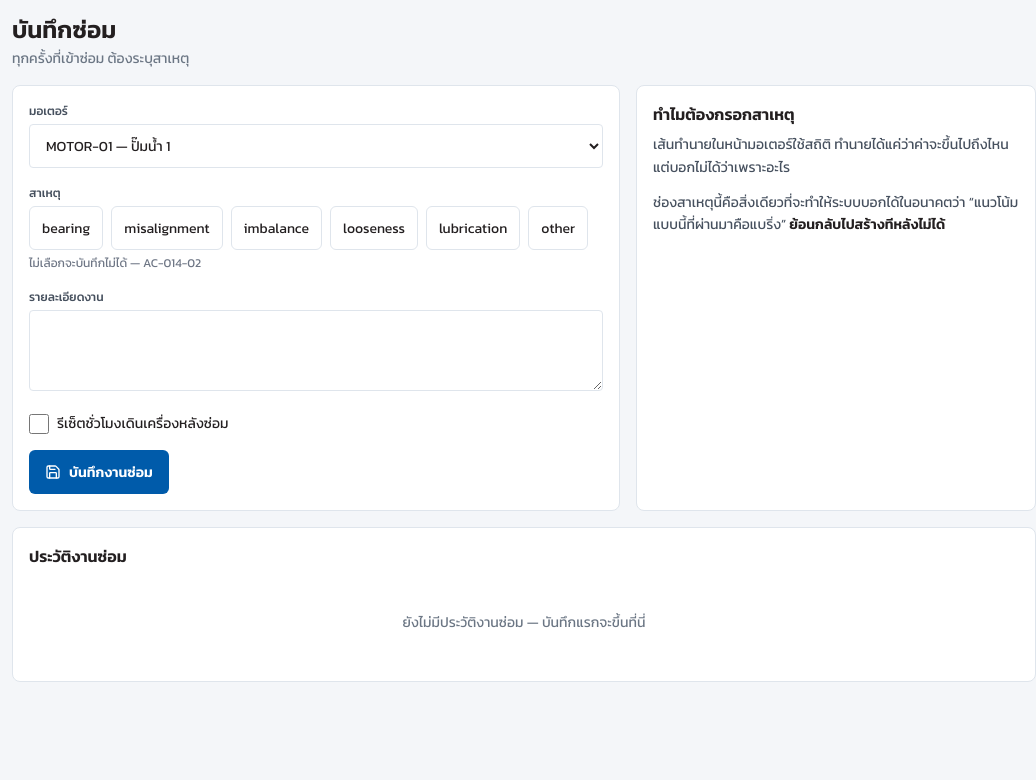
Maintenance › เลือกสาเหตุแล้วบันทึกได้ → ยิง POST แล้วรายการเพิ่มขึ้น
Click the button "bearing": [66, 228] box [29,206,103,250]
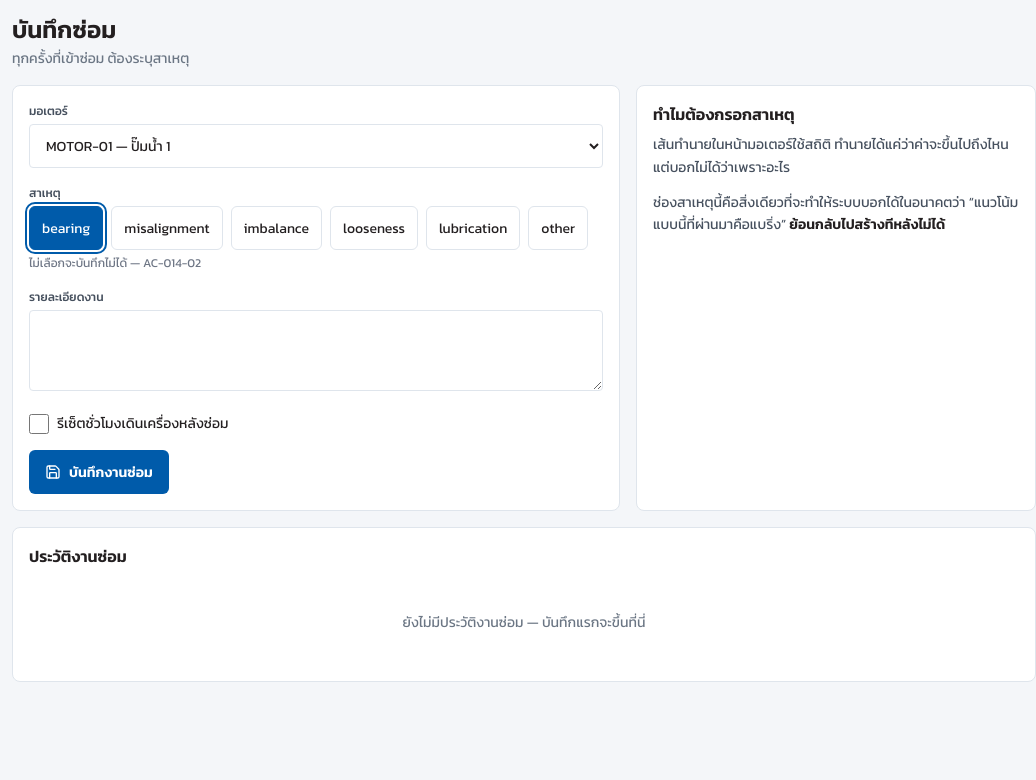
Click the button "บันทึกงานซ่อม": [99, 472] box [29,450,169,494]
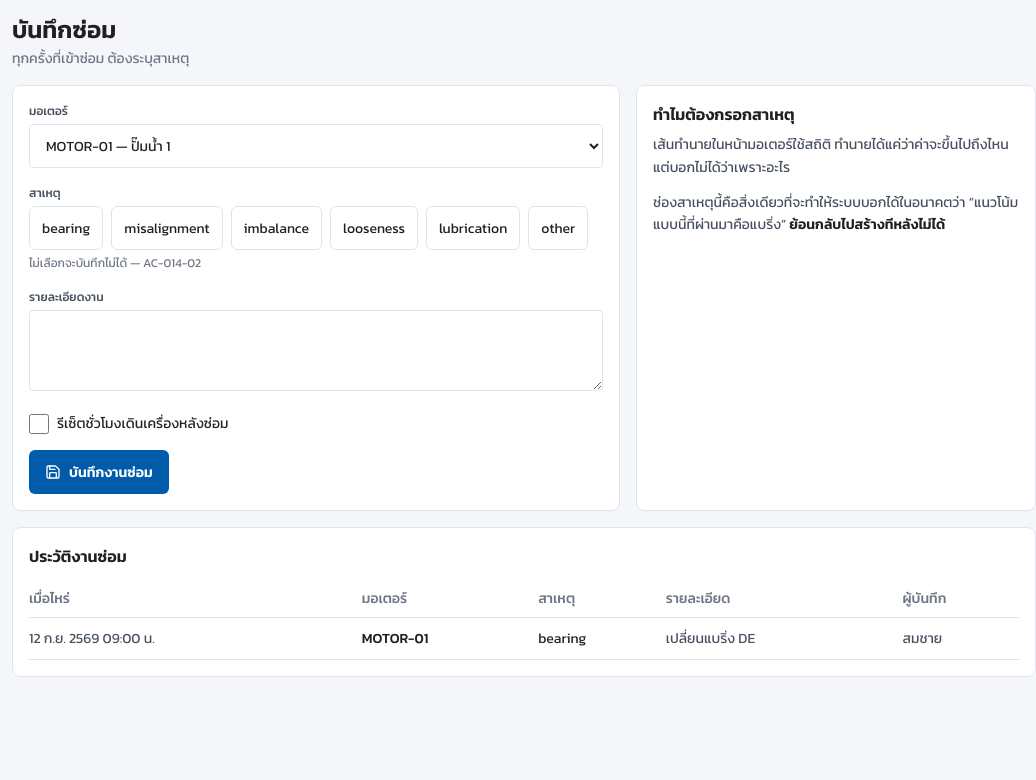
Expected: the text "เปลี่ยนแบริ่ง DE" is shown, [666,618,902,660]
